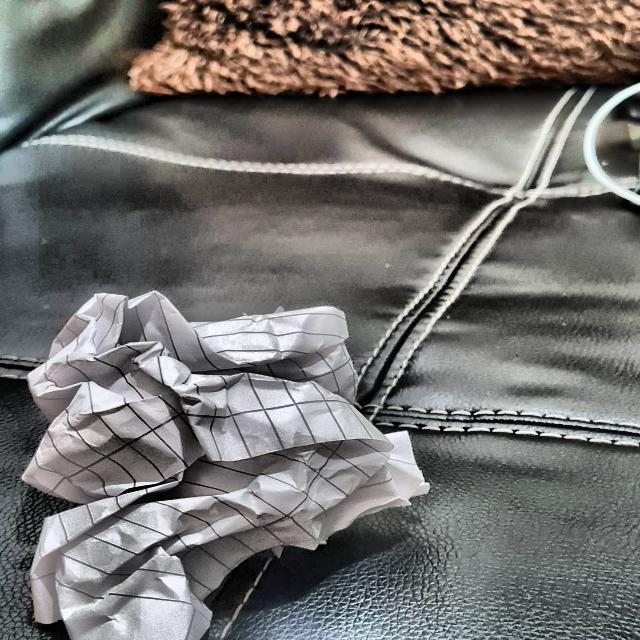paper: (36, 268, 414, 640)
